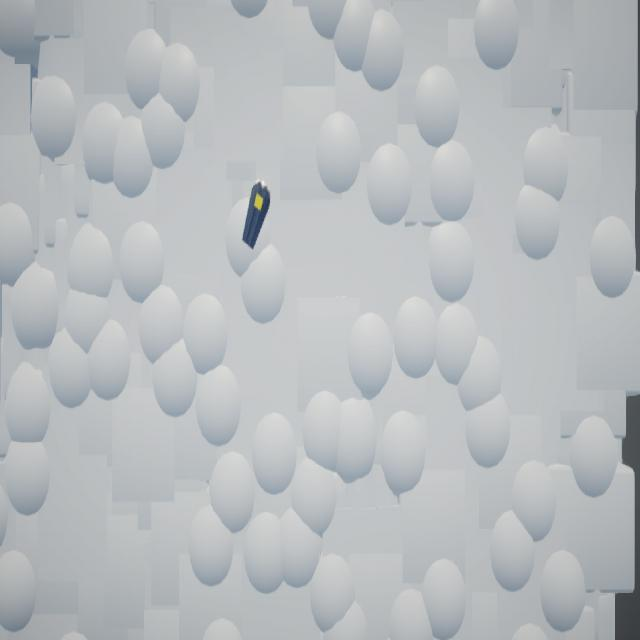handle_folk: (243, 181, 272, 251)
